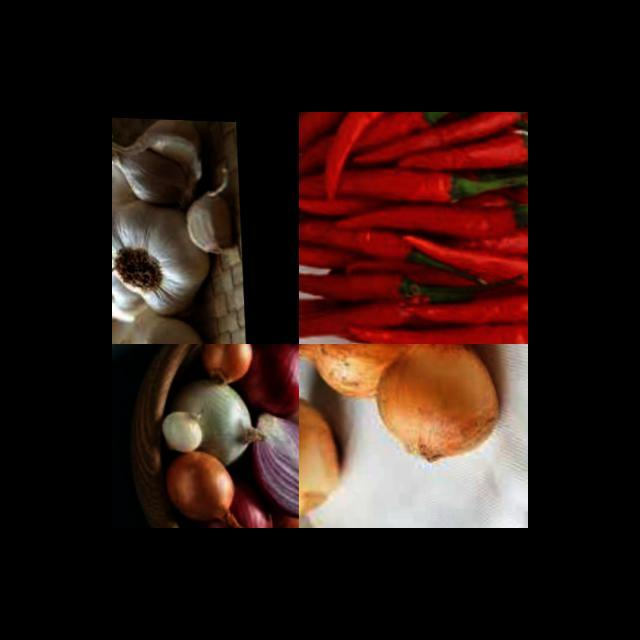garlic: (112, 193, 210, 315), (112, 115, 211, 209), (112, 300, 211, 344), (177, 182, 230, 258), (112, 203, 139, 314)
onion: (367, 344, 497, 463), (172, 378, 267, 462), (161, 447, 246, 528), (245, 401, 299, 523), (299, 383, 343, 527), (194, 466, 276, 528), (299, 344, 392, 398), (243, 344, 299, 417), (146, 392, 211, 452), (197, 344, 254, 388), (261, 497, 299, 528), (287, 362, 299, 409)
